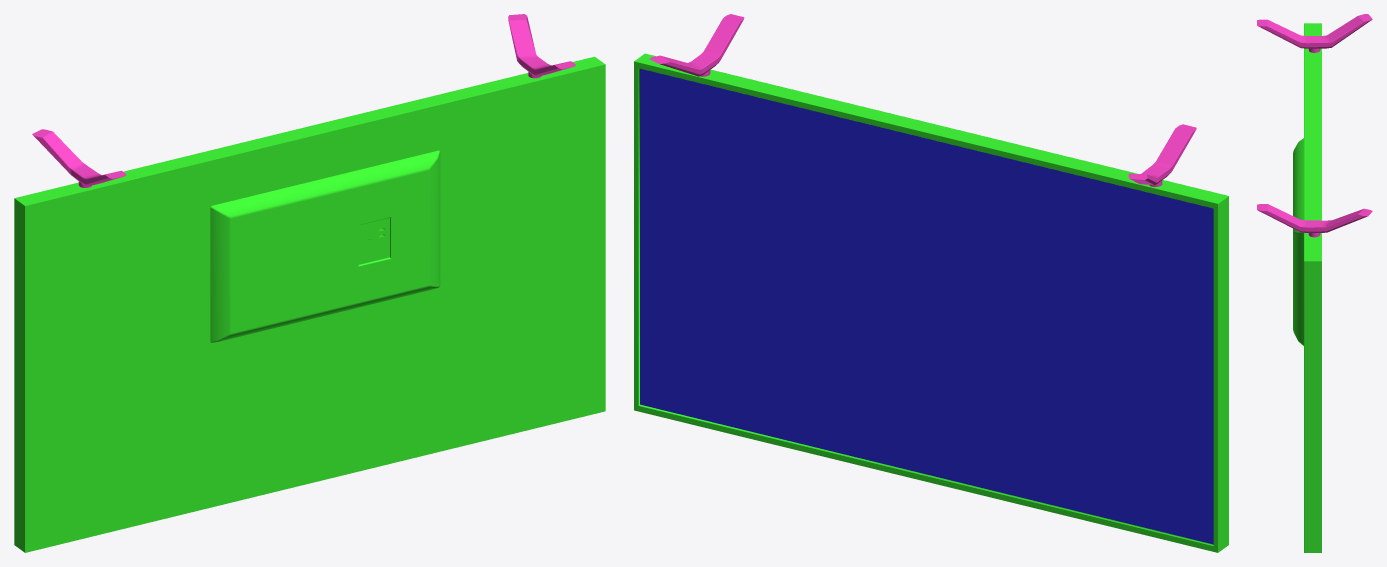
Rendered from ELDV_TVPlasma_Edge.FBX.
3 views of the same model, side by side, from view 1: azimuth 30°, elevation 25°; view 2: azimuth 150°, elevation 25°; view 3: azimuth 270°, elevation 25° (orthographic). The views are drawn at different scales.
Parts seen in each view (by area): view 1: ELDV_TVPlasma_Edge; view 2: ELDV_TVPlasma_Edge; view 3: ELDV_TVPlasma_Edge.
Part boxes in pixels (<box>): ELDV_TVPlasma_Edge: <box>14,14,605,552</box>; ELDV_TVPlasma_Edge: <box>634,14,1228,552</box>; ELDV_TVPlasma_Edge: <box>1257,14,1372,552</box>.
Size of the model in its own units: 122 by 76.2 by 25.05.
